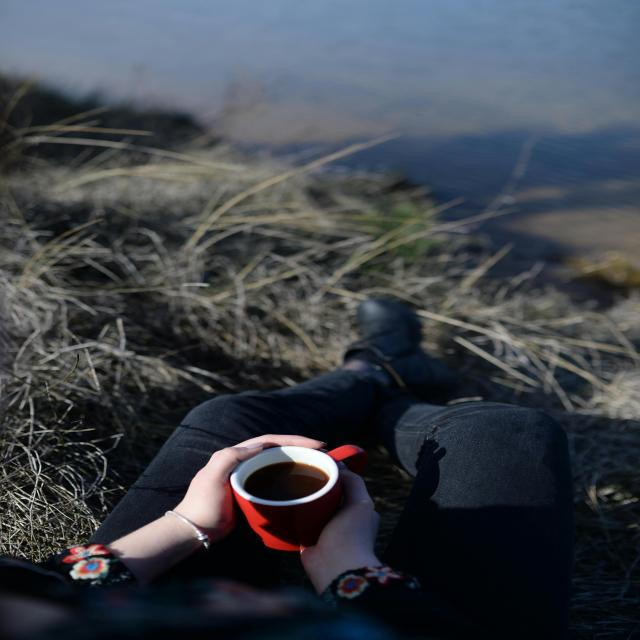Red_cup: (231, 445, 367, 550)
